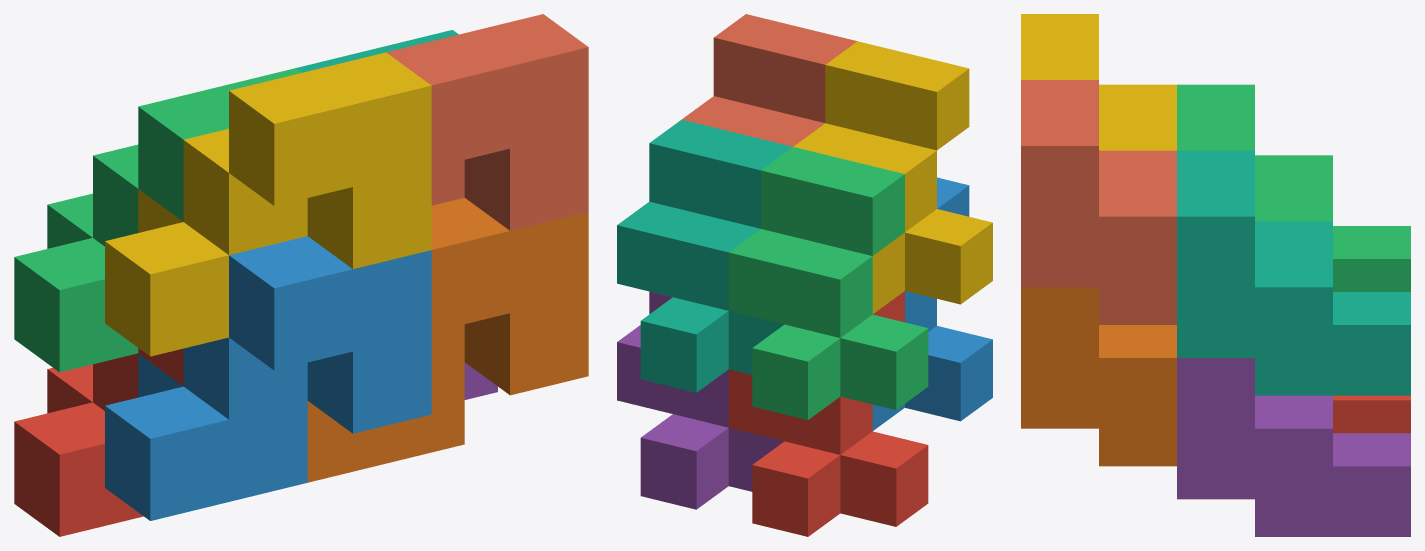
Rendered from tiling.obj.
3 renders of one model, left to right at view 1: azimuth 30°, elevation 25°; view 2: azimuth 150°, elevation 25°; view 3: azimuth 270°, elevation 25°, orthographic. The views are drawn at different scales.
Visible parts, largest first — view 1: copy_1_domain_2, copy_1_domain_4, copy_1_domain_6, copy_1_domain_8, copy_1_domain_3, copy_1_domain_1, copy_1_domain_7, copy_1_domain_5; view 2: copy_1_domain_3, copy_1_domain_7, copy_1_domain_4, copy_1_domain_1, copy_1_domain_5, copy_1_domain_8, copy_1_domain_2; view 3: copy_1_domain_7, copy_1_domain_5, copy_1_domain_8, copy_1_domain_6, copy_1_domain_3, copy_1_domain_4, copy_1_domain_1.
Boxes of the visible parts, x1=… form: copy_1_domain_2: x1=105, y1=236, x2=431, y2=520; copy_1_domain_4: x1=105, y1=52, x2=431, y2=356; copy_1_domain_6: x1=307, y1=197, x2=588, y2=482; copy_1_domain_8: x1=386, y1=14, x2=588, y2=230; copy_1_domain_3: x1=14, y1=68, x2=301, y2=372; copy_1_domain_1: x1=14, y1=348, x2=183, y2=536; copy_1_domain_7: x1=295, y1=30, x2=458, y2=72; copy_1_domain_5: x1=464, y1=362, x2=497, y2=399; copy_1_domain_3: x1=728, y1=147, x2=928, y2=419; copy_1_domain_7: x1=617, y1=119, x2=792, y2=392; copy_1_domain_4: x1=793, y1=41, x2=992, y2=313; copy_1_domain_1: x1=728, y1=291, x2=928, y2=536; copy_1_domain_5: x1=617, y1=291, x2=783, y2=509; copy_1_domain_8: x1=682, y1=14, x2=857, y2=146; copy_1_domain_2: x1=872, y1=177, x2=992, y2=430; copy_1_domain_7: x1=1177, y1=150, x2=1410, y2=395; copy_1_domain_5: x1=1177, y1=358, x2=1410, y2=536; copy_1_domain_8: x1=1021, y1=80, x2=1176, y2=324; copy_1_domain_6: x1=1021, y1=287, x2=1176, y2=466; copy_1_domain_3: x1=1177, y1=84, x2=1410, y2=291; copy_1_domain_4: x1=1021, y1=14, x2=1176, y2=150; copy_1_domain_1: x1=1333, y1=395, x2=1410, y2=433.
Bounding box in the file's own units: 5 × 6 × 5.
